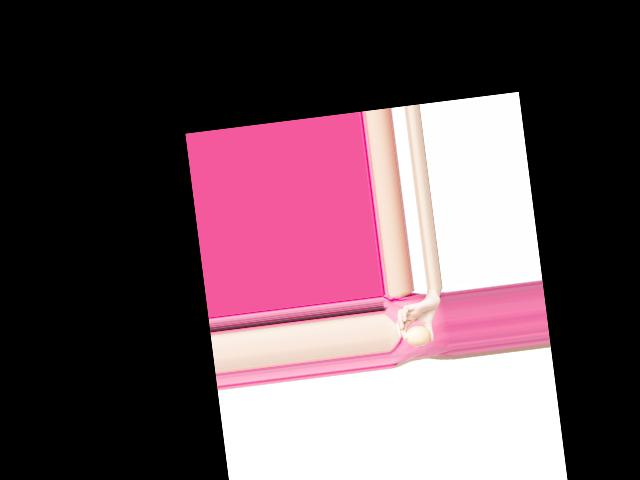egg: (404, 324, 431, 347)
